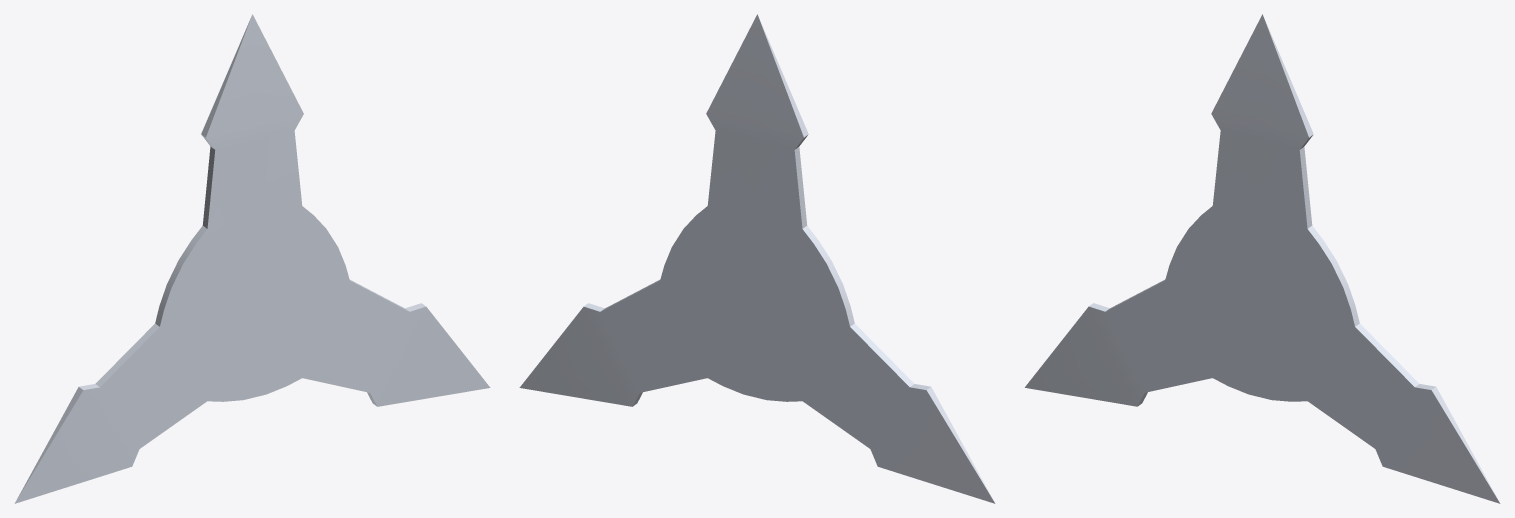
File: Saw C.fbx
The picture shows the model from 3 angles, left to right: view 1: azimuth 30°, elevation 25°; view 2: azimuth 150°, elevation 25°; view 3: azimuth 330°, elevation 25°; orthographic projection.
Visible parts, largest first — view 1: Saw C; view 2: Saw C; view 3: Saw C.
Part boxes in pixels (x1,y1,x2,y2): Saw C: (14,14,490,503); Saw C: (519,14,995,503); Saw C: (1025,14,1500,503).
Size of the model in its own units: 134 by 116 by 2.4.
